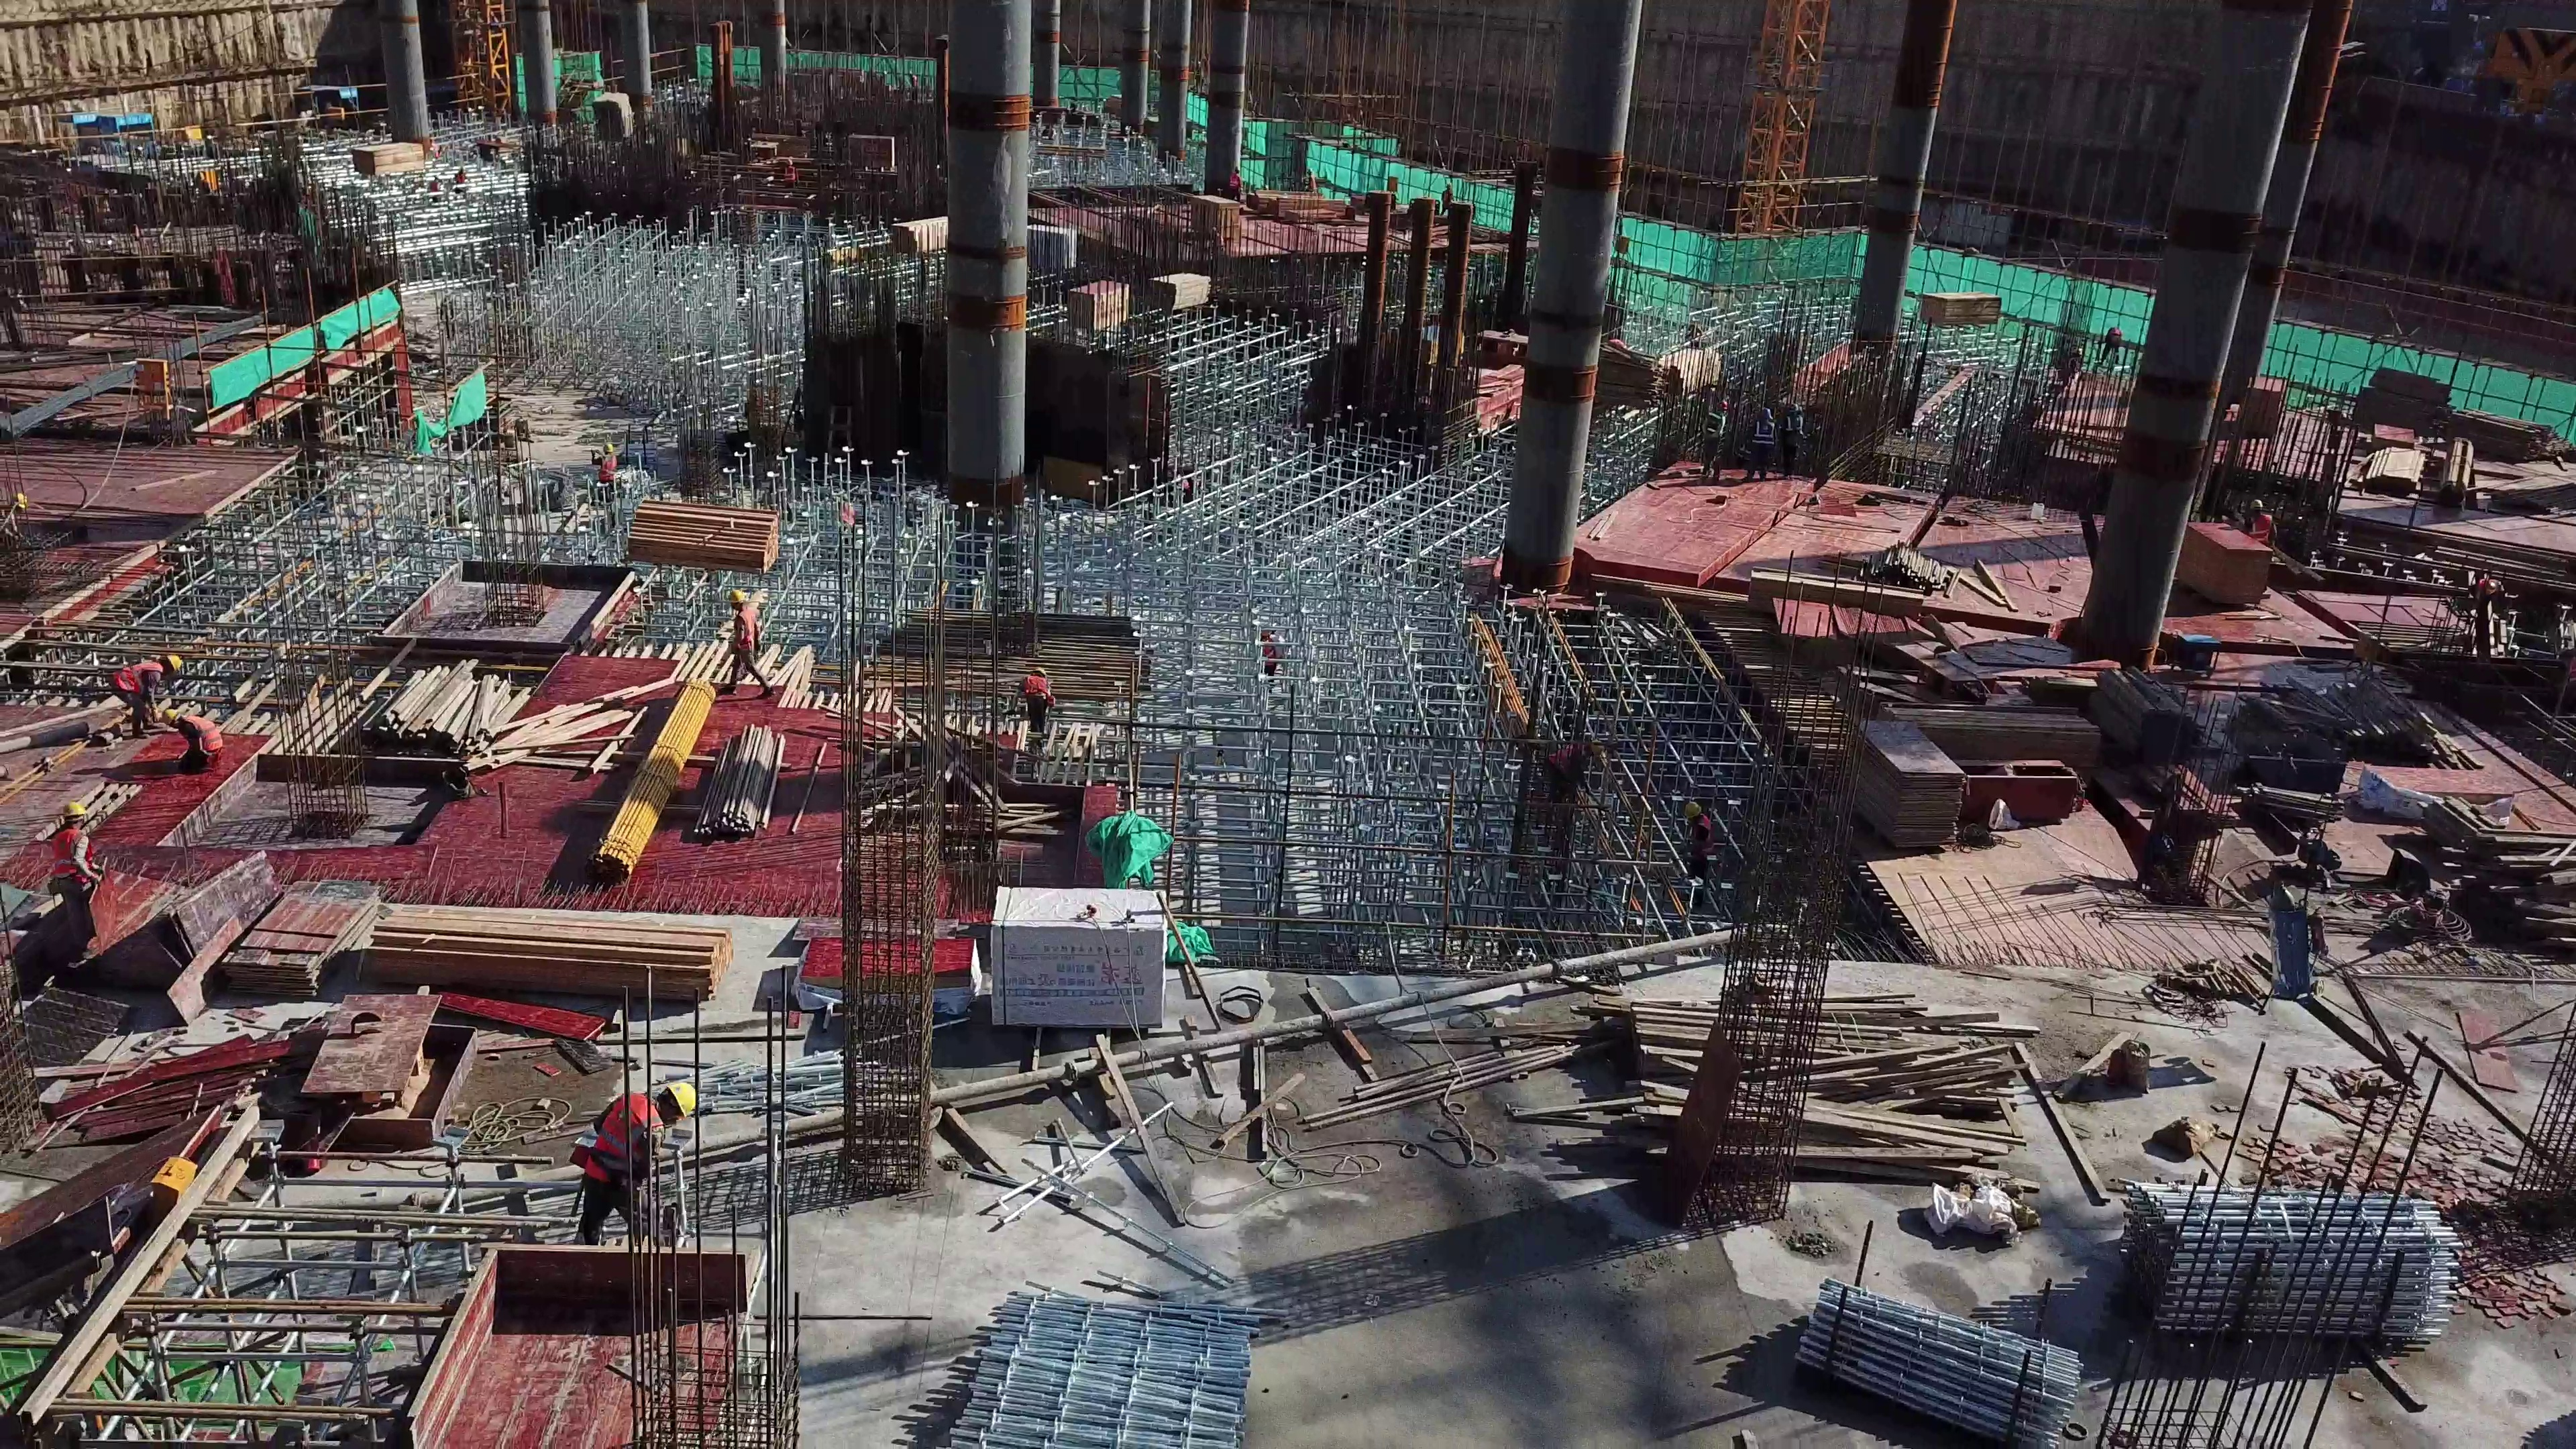board: (146, 837, 380, 1000), (1854, 707, 1970, 855), (2170, 513, 2277, 614), (1071, 268, 1224, 326)
helmet: (665, 1077, 696, 1126), (56, 800, 91, 821), (160, 704, 183, 728), (728, 587, 748, 610), (167, 652, 184, 672)
person: (571, 1077, 698, 1251), (106, 651, 182, 738), (50, 802, 107, 914), (723, 590, 773, 709), (162, 706, 225, 767), (1010, 663, 1058, 743), (1758, 407, 1805, 480), (1686, 796, 1718, 897), (1707, 396, 1726, 480)
scaffold: (2116, 1163, 2467, 1359), (908, 1287, 1265, 1449), (1776, 1263, 2084, 1449)
vest: (576, 1089, 659, 1212), (109, 655, 164, 704), (180, 716, 215, 751)
wood: (1576, 973, 2051, 1198), (359, 901, 735, 1008), (612, 496, 787, 573), (1863, 548, 2023, 614)
